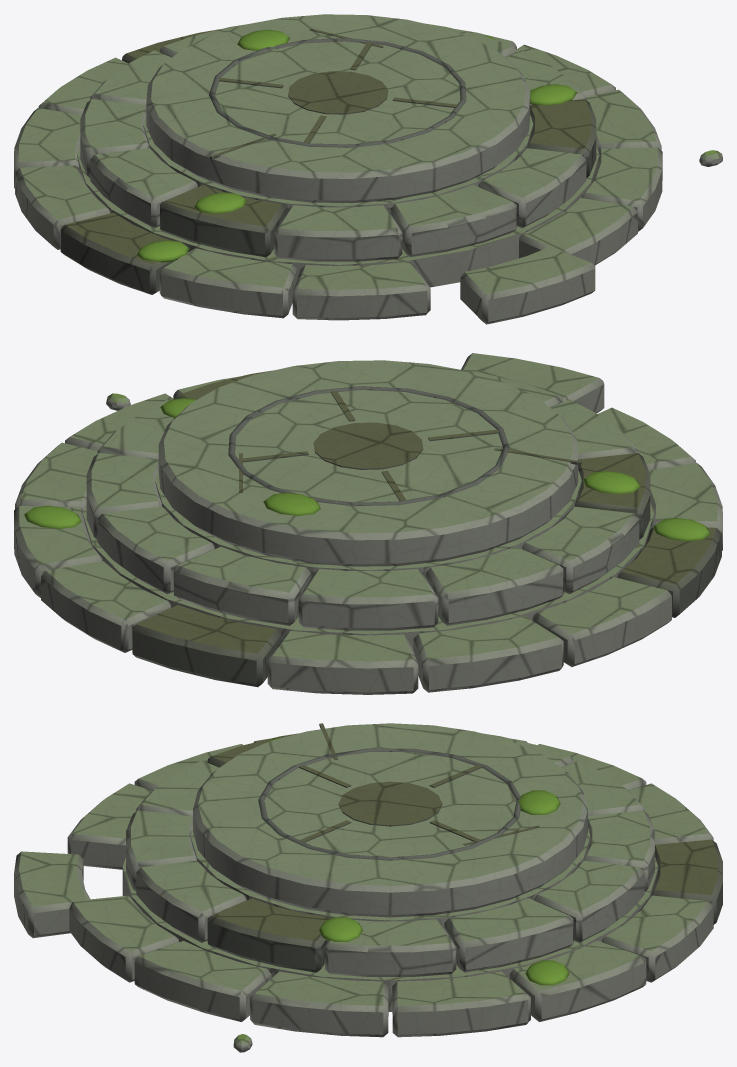
The model's file is stone_dais.glb.
3 renders of one model, top to bottom at view 1: azimuth 30°, elevation 25°; view 2: azimuth 150°, elevation 25°; view 3: azimuth 270°, elevation 25°, orthographic. The views are drawn at different scales.
Visible parts, largest first — view 1: stone_dais; view 2: stone_dais; view 3: stone_dais.
Part boxes in pixels (<box>): stone_dais: <box>14,14,722,324</box>; stone_dais: <box>14,353,722,694</box>; stone_dais: <box>14,723,722,1052</box>.
Size of the model in its own units: 5.69 by 0.894 by 5.74.
4 materials, 4 textured.
